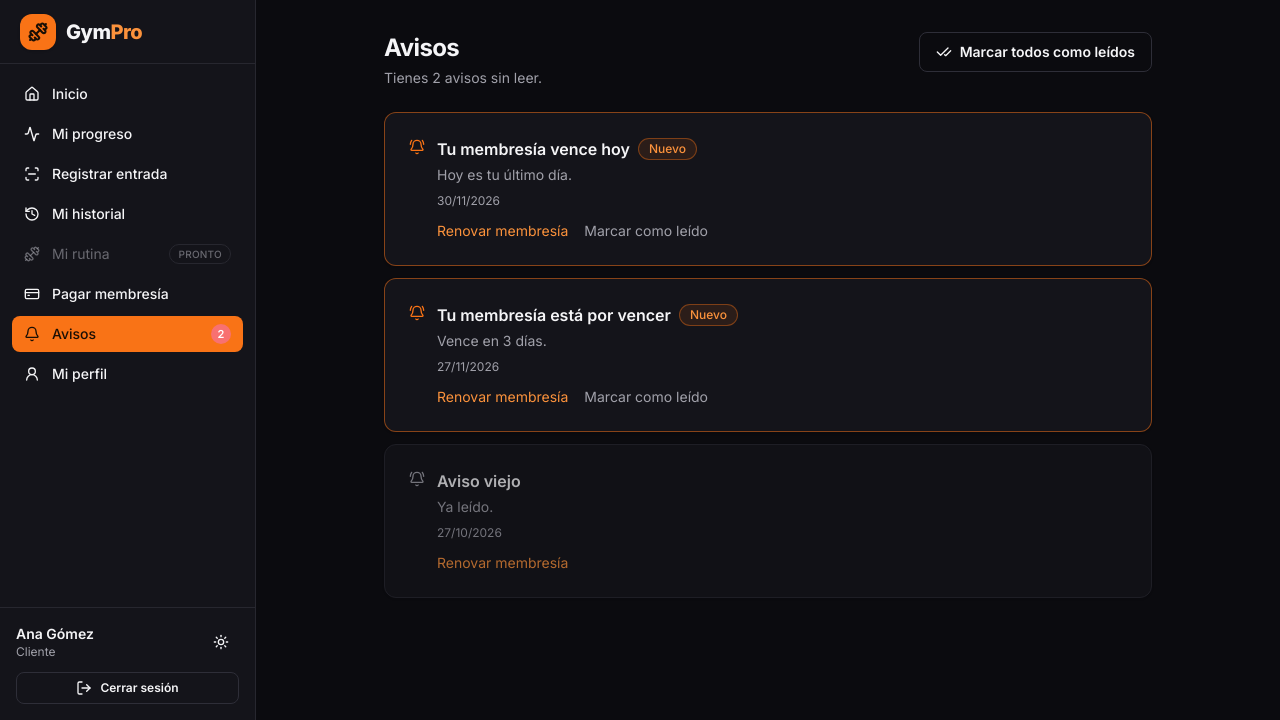
Avisos › lista los avisos, marca uno como leído y actualiza el contador
Expected: the text "Tienes 2 avisos sin leer." is shown, [384, 68, 542, 88]
Expected: the text "Hoy es tu último día." is shown, [437, 166, 572, 183]
Click the button with aria-label "Marcar como leído: Tu membresía está por vencer".
click(646, 397)  # box [584, 387, 708, 407]
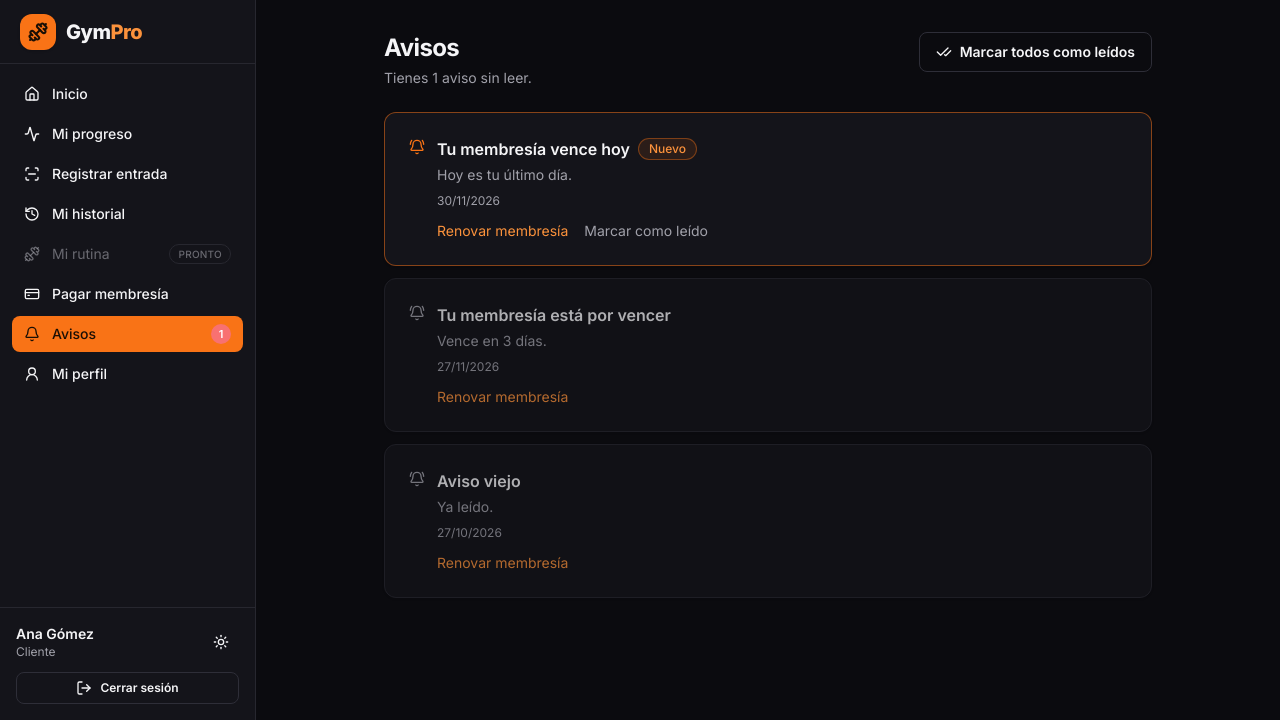
Now the text "Tienes 1 aviso sin leer." is shown, box [384, 68, 532, 88]
